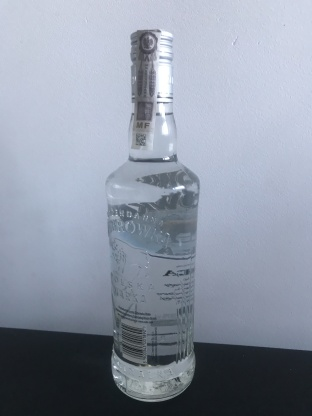nakretka: (128, 25, 175, 106)
